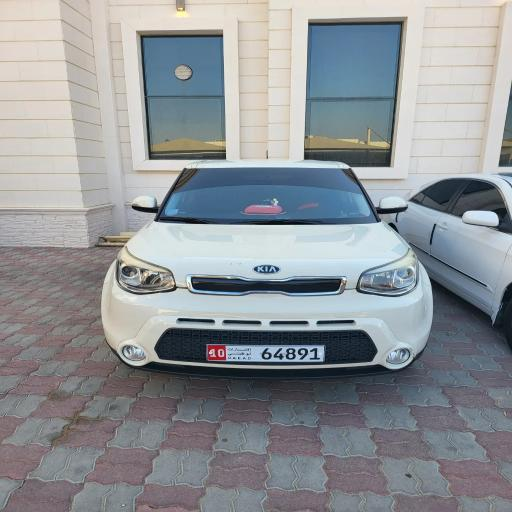license-plates: (207, 345, 325, 362)
